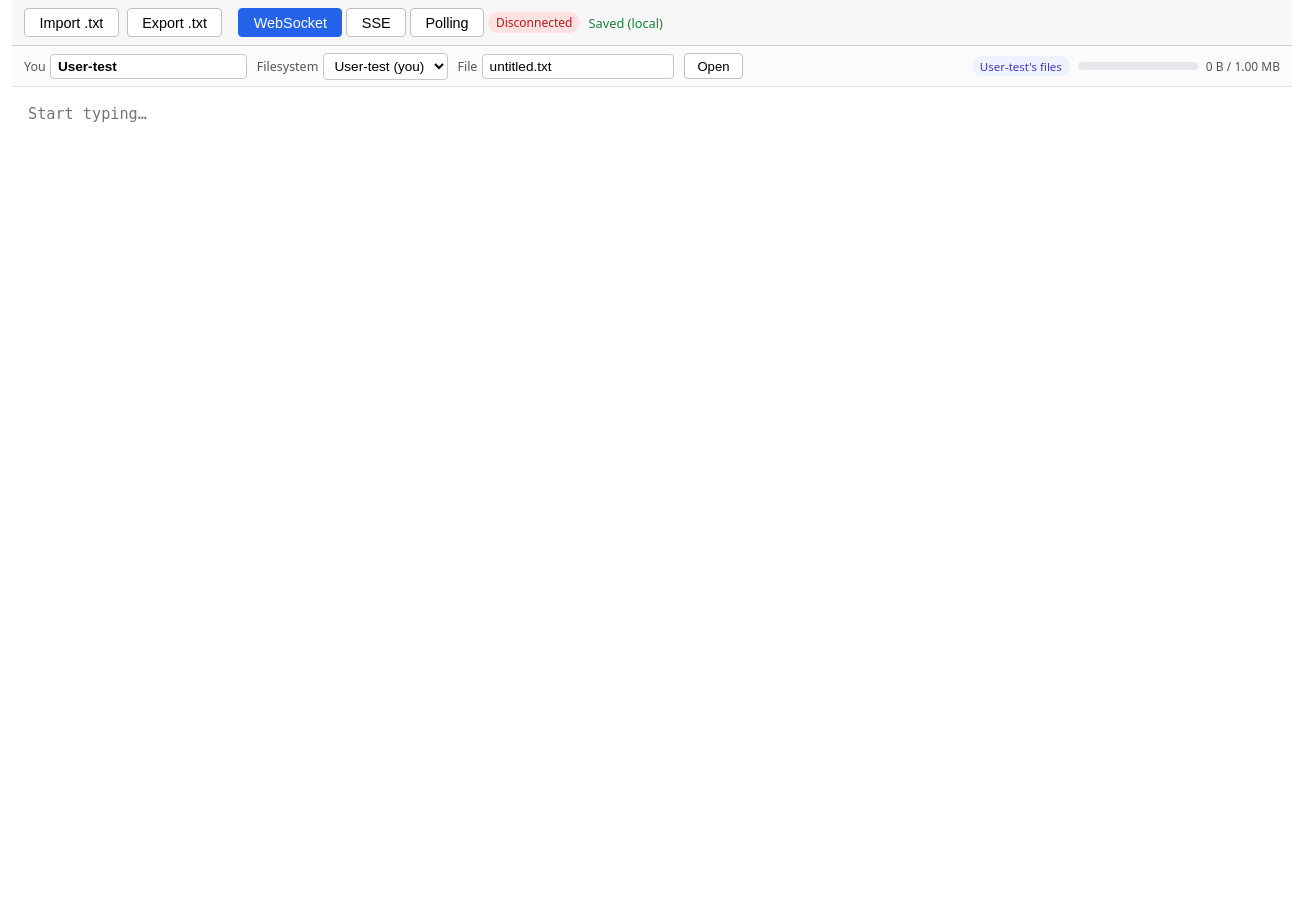
Test: Editor › marks the document as unsaved after editing
Step 1. Type "hi" into the text box named "editor" → [652, 494], box x1=12 y1=87 x2=1292 y2=899
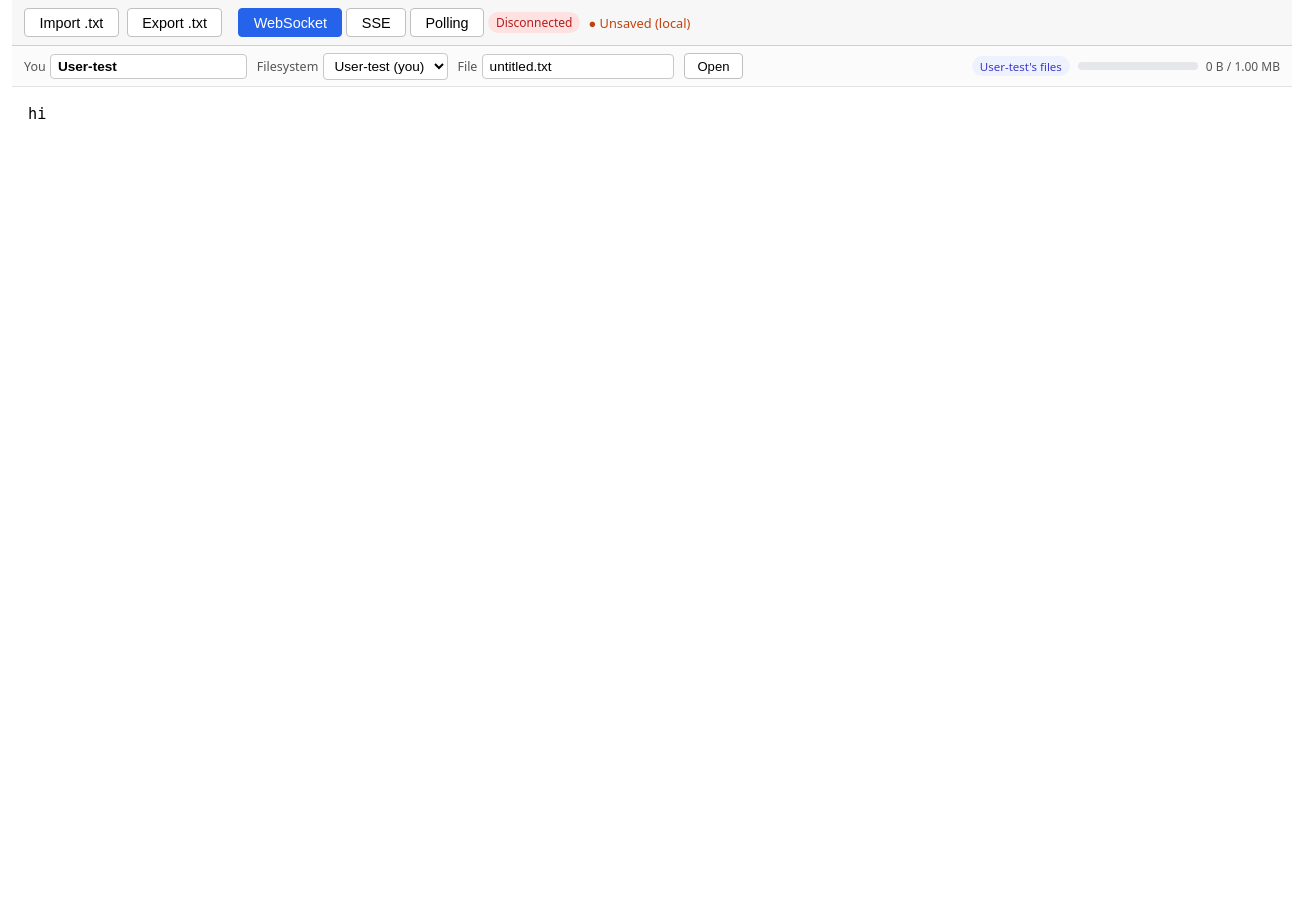
Result: the text "● Unsaved (local)" is shown at x1=588 y1=14 x2=690 y2=32
